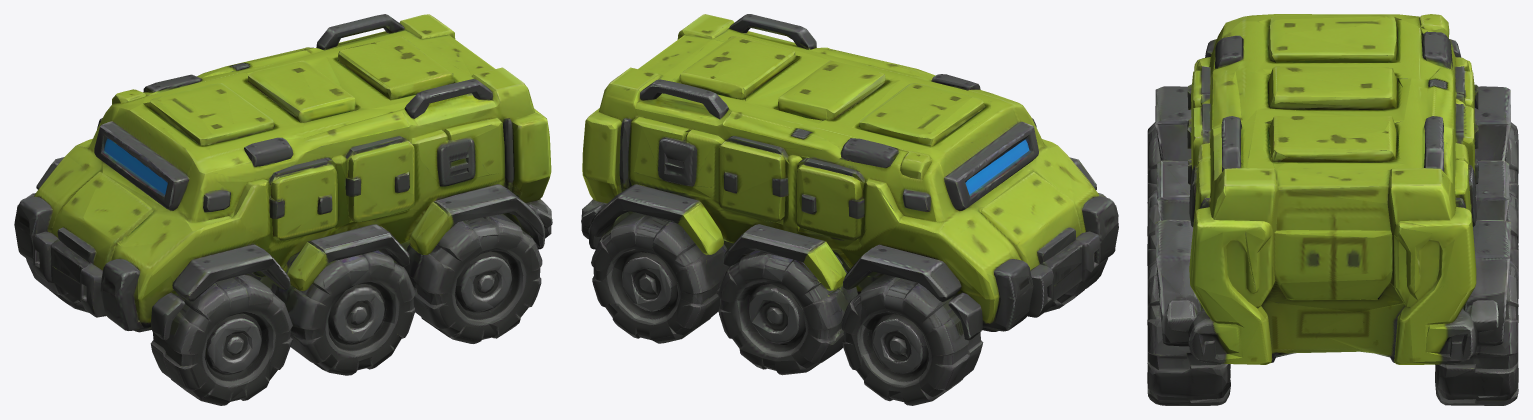
The model's file is m06_apc.glb.
3 views of the same model, side by side, from view 1: azimuth 30°, elevation 25°; view 2: azimuth 150°, elevation 25°; view 3: azimuth 270°, elevation 25° (orthographic). The views are drawn at different scales.
Size of the model in its own units: 1.9 by 0.987 by 1.24.
1 material, 1 textured.
